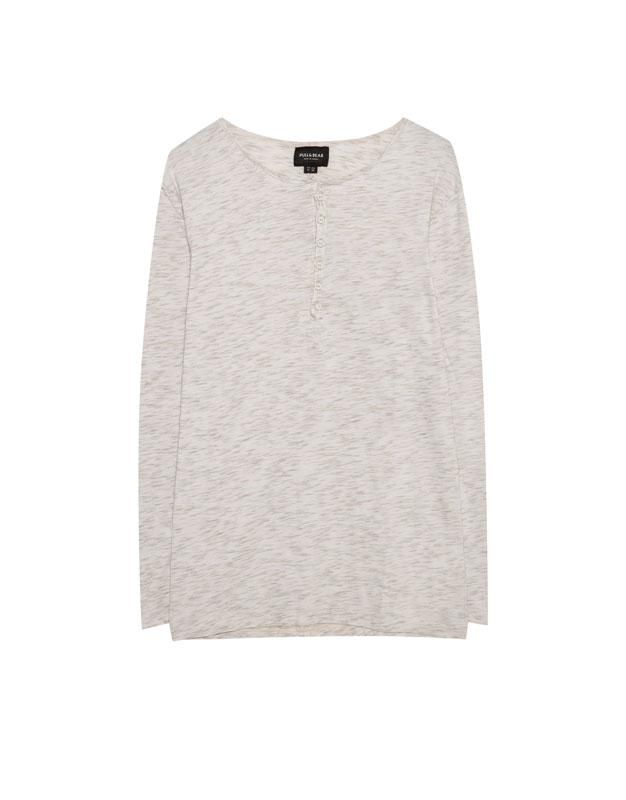teeshirt: (123, 116, 501, 689)
